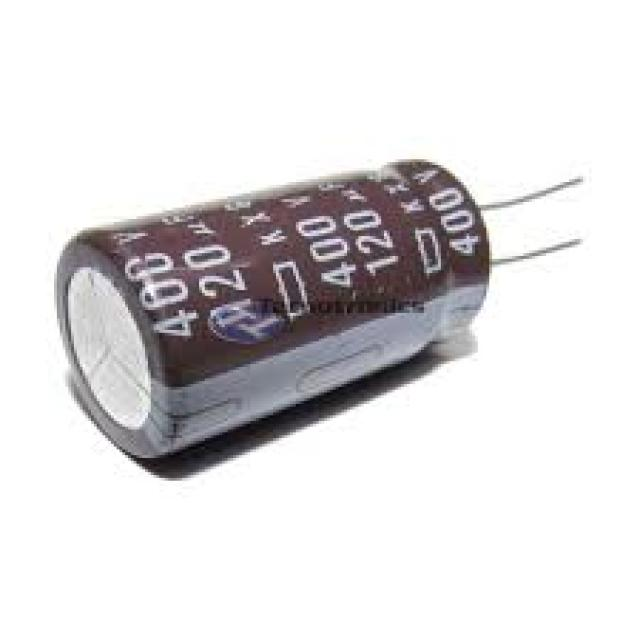Capacitor: (54, 159, 495, 469)
